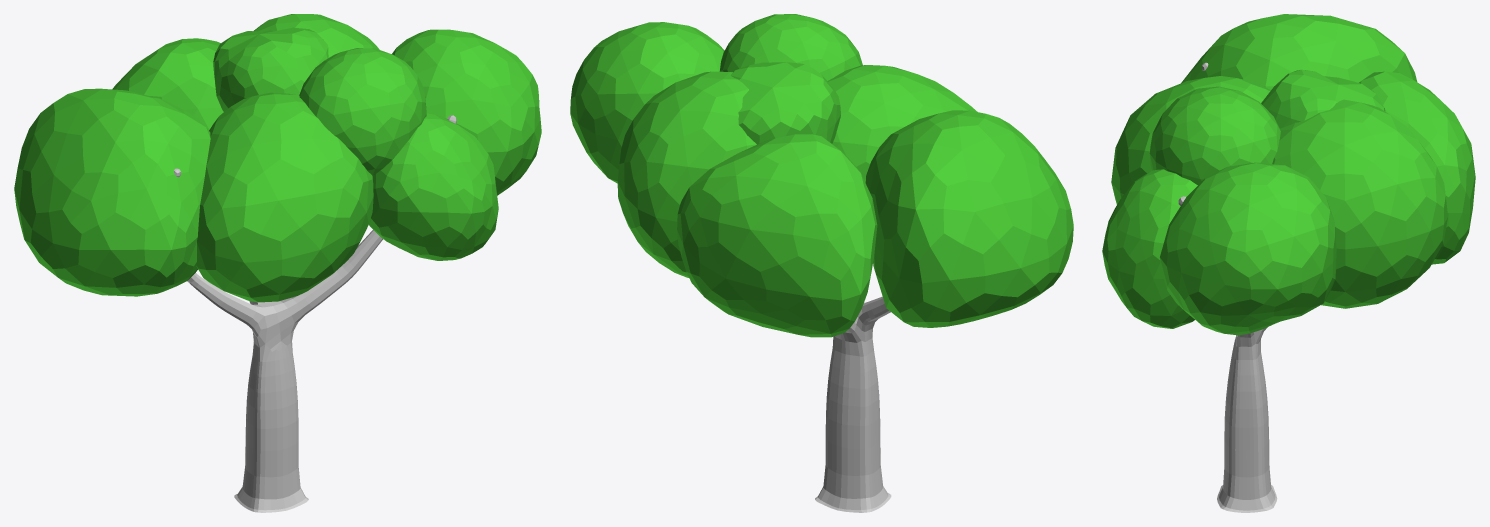
The model's file is TREEEEEEE.fbx.
The picture shows the model from 3 angles, left to right: view 1: azimuth 30°, elevation 25°; view 2: azimuth 150°, elevation 25°; view 3: azimuth 270°, elevation 25°; orthographic projection. The views are drawn at different scales.
Visible parts, largest first — view 1: Plane; view 2: Plane; view 3: Plane.
Part boxes in pixels (x1,y1,x2,y2): Plane: (14,14,541,512); Plane: (570,14,1073,512); Plane: (1102,14,1475,512).
Size of the model in its own units: 1081 by 949 by 722.
